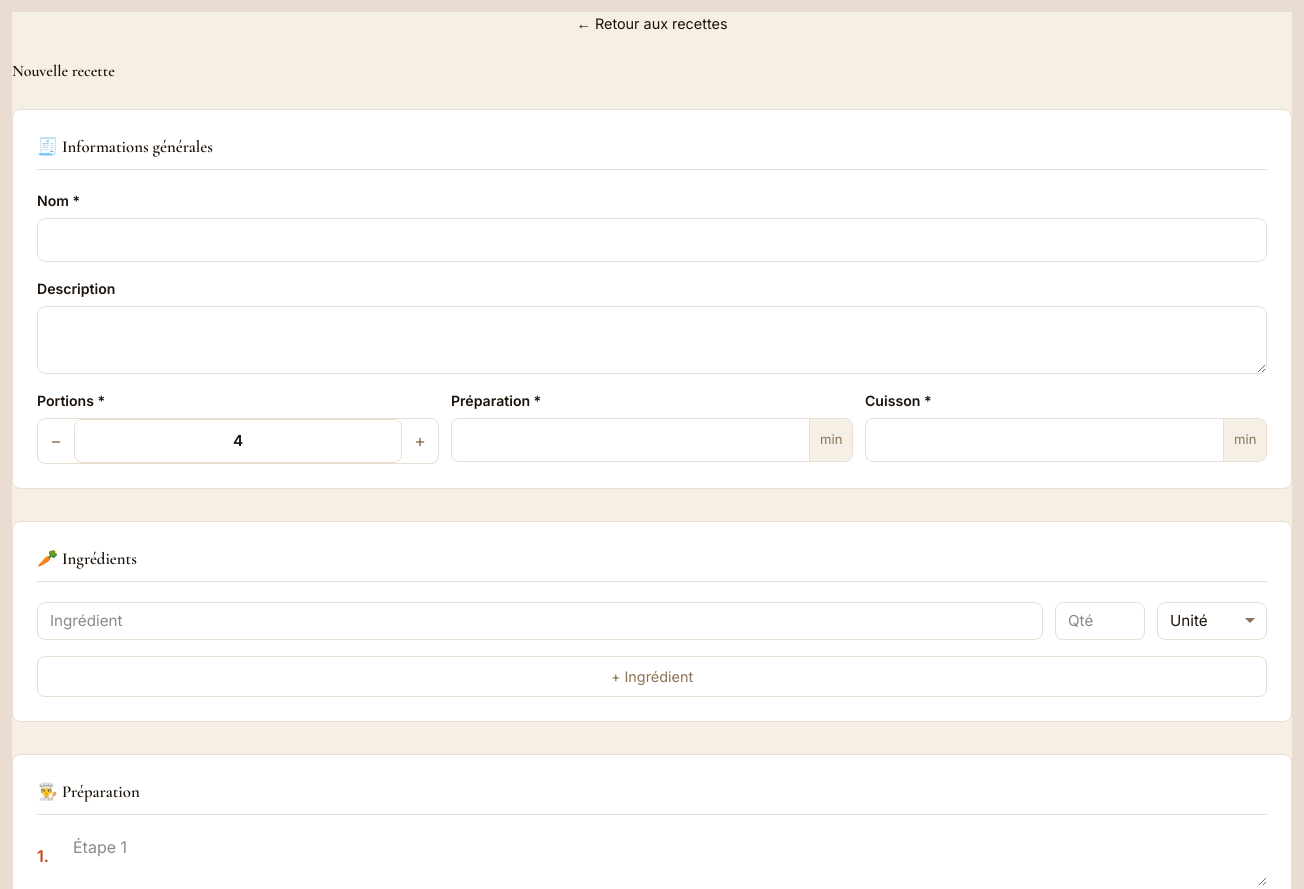
Test case: RecipeForm (mode creation) › ajoute une ligne d ingredient au clic sur + Ingredient
Expected: the number of dropdowns with placeholder "Ingrédient" is 1, left=37, top=602, right=1043, bottom=640
Click the button "+ Ingrédient" at (652, 676), box left=37, top=656, right=1267, bottom=697
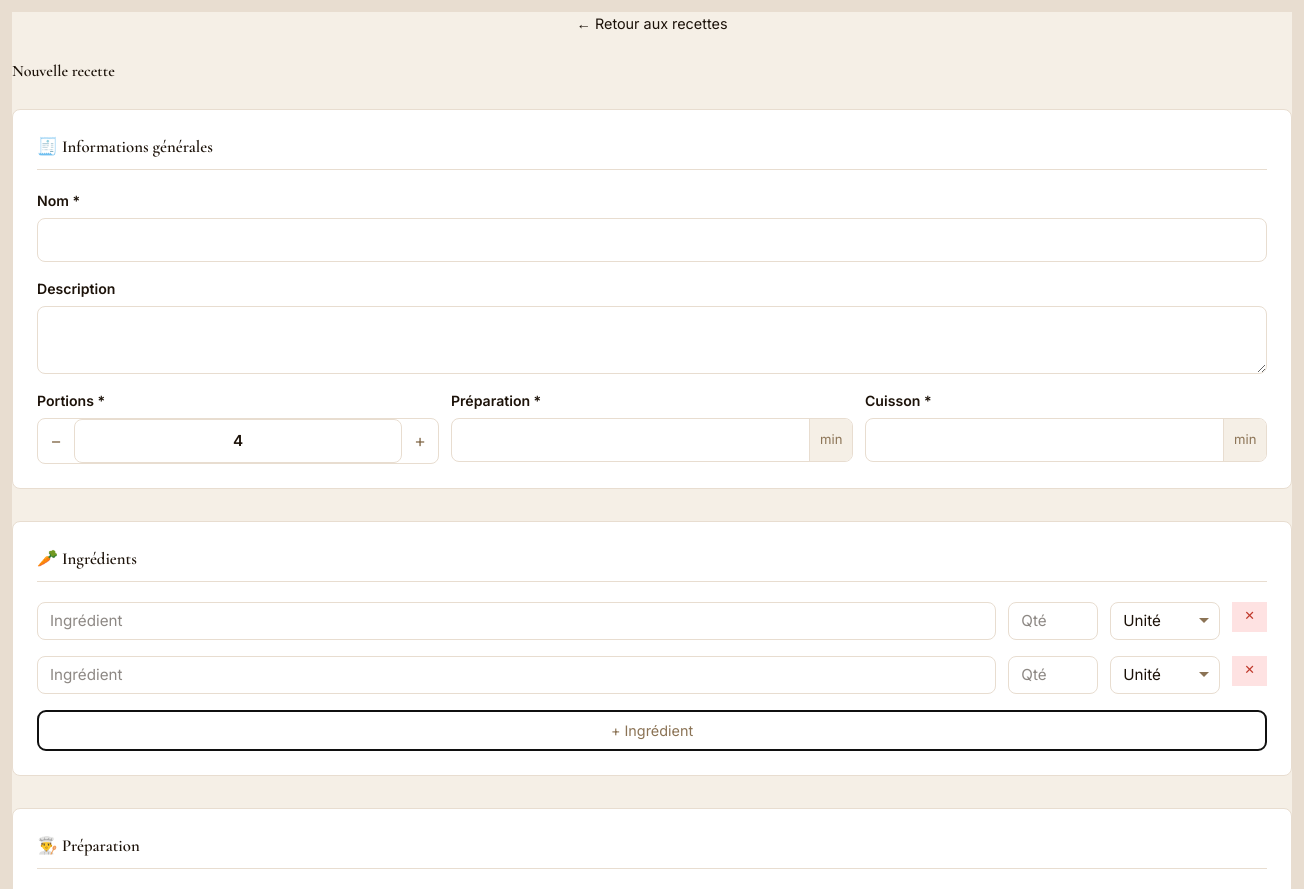
Now the number of dropdowns with placeholder "Ingrédient" is 2, box left=37, top=602, right=996, bottom=640; left=37, top=656, right=996, bottom=694
